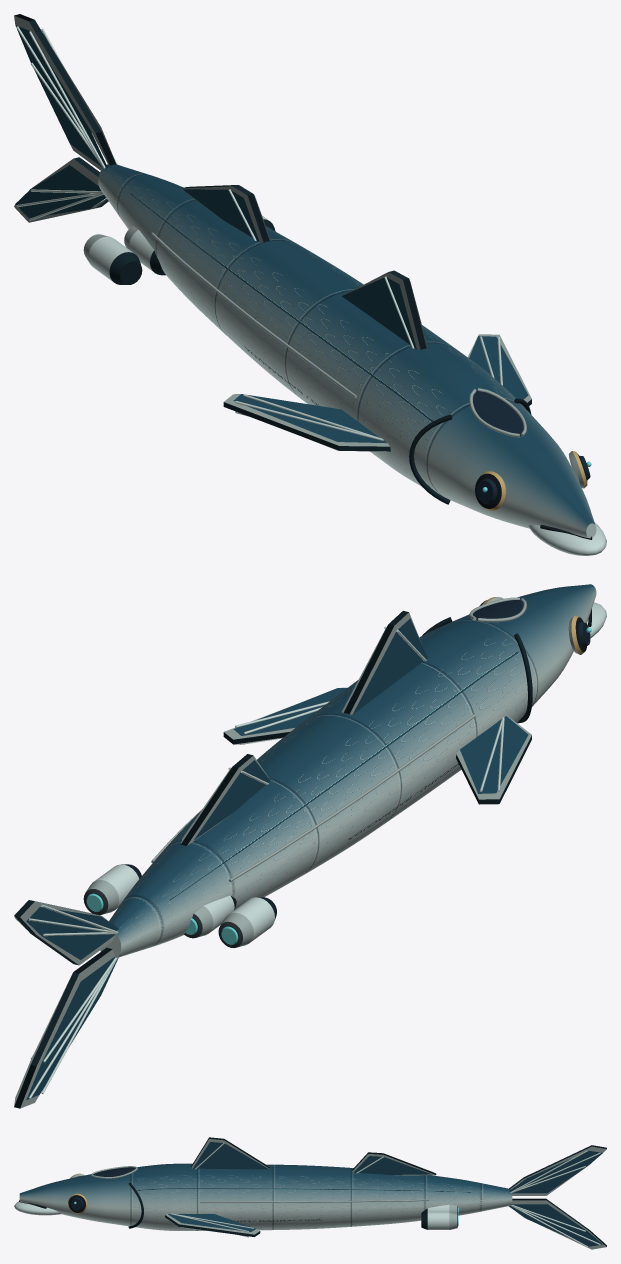
The model's file is barracuda.glb.
3 views of the same model, one above another, from view 1: azimuth 30°, elevation 25°; view 2: azimuth 150°, elevation 25°; view 3: azimuth 270°, elevation 25° (orthographic). The views are drawn at different scales.
Visible parts, largest first — view 1: barracuda_hull; view 2: barracuda_hull; view 3: barracuda_hull.
Part boxes in pixels (left/top/right/bottom): barracuda_hull: left=14, top=14, right=606, bottom=555; barracuda_hull: left=14, top=584, right=606, bottom=1108; barracuda_hull: left=14, top=1137, right=606, bottom=1249.
Bounding box in the file's own units: 10.99 × 8.25 × 40.
1 material, 1 textured.
